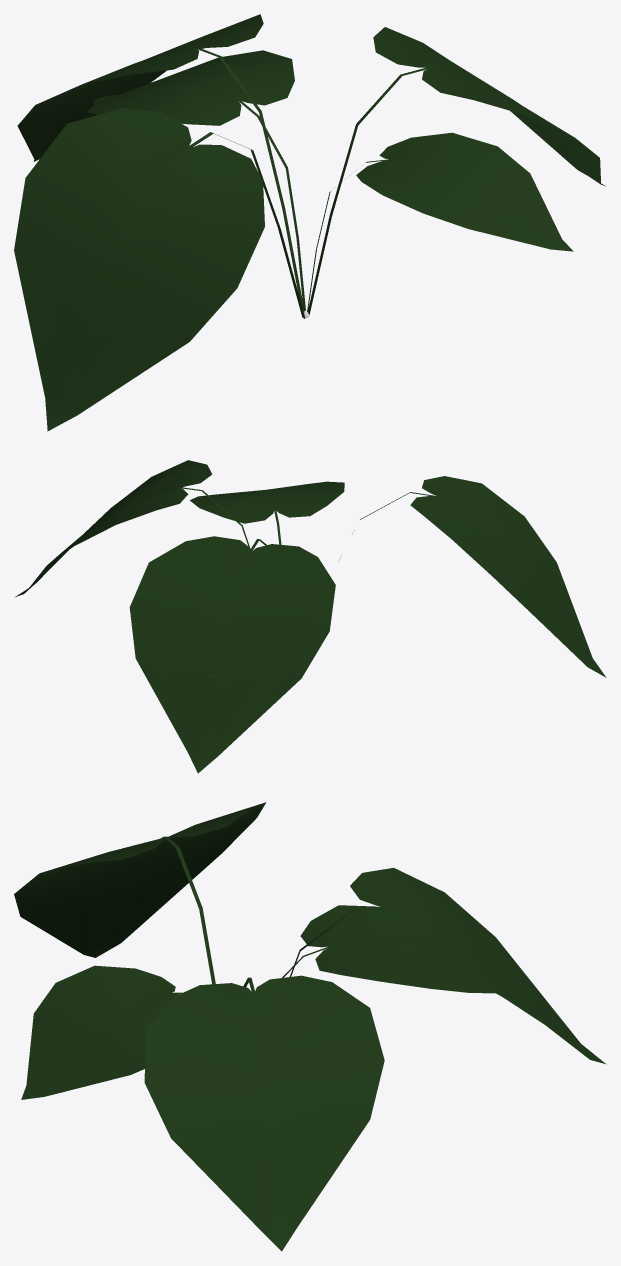
File: Alocasia Reginula.fbx
3 renders of one model, top to bottom at view 1: azimuth 30°, elevation 25°; view 2: azimuth 150°, elevation 25°; view 3: azimuth 270°, elevation 25°, orthographic. The views are drawn at different scales.
Visible parts, largest first — view 1: Alocasia Reginula|Alocasia Reginula Leaf|Dupli|2, Alocasia Reginula|Alocasia Reginula Leaf|Dupli|1, Alocasia Reginula|Alocasia Reginula Leaf|Dupli|3, Alocasia Reginula|Alocasia Reginula Leaf|Dupli|4, Alocasia Reginula|Alocasia Reginula Leaf|Dupli|; view 2: Alocasia Reginula|Alocasia Reginula Leaf|Dupli|4, Alocasia Reginula|Alocasia Reginula Leaf|Dupli|2, Alocasia Reginula|Alocasia Reginula Leaf|Dupli|1, Alocasia Reginula|Alocasia Reginula Leaf|Dupli|; view 3: Alocasia Reginula|Alocasia Reginula Leaf|Dupli|, Alocasia Reginula|Alocasia Reginula Leaf|Dupli|2, Alocasia Reginula|Alocasia Reginula Leaf|Dupli|1, Alocasia Reginula|Alocasia Reginula Leaf|Dupli|4, Alocasia Reginula|Alocasia Reginula Leaf|Dupli|3.
Part boxes in pixels (x1,y1,x2,y2): Alocasia Reginula|Alocasia Reginula Leaf|Dupli|2: (14, 108, 305, 431); Alocasia Reginula|Alocasia Reginula Leaf|Dupli|1: (307, 132, 573, 312); Alocasia Reginula|Alocasia Reginula Leaf|Dupli|3: (86, 50, 305, 311); Alocasia Reginula|Alocasia Reginula Leaf|Dupli|4: (17, 14, 303, 311); Alocasia Reginula|Alocasia Reginula Leaf|Dupli|: (308, 27, 605, 314); Alocasia Reginula|Alocasia Reginula Leaf|Dupli|4: (129, 536, 335, 773); Alocasia Reginula|Alocasia Reginula Leaf|Dupli|2: (338, 476, 606, 677); Alocasia Reginula|Alocasia Reginula Leaf|Dupli|1: (189, 481, 344, 544); Alocasia Reginula|Alocasia Reginula Leaf|Dupli|: (15, 460, 250, 596); Alocasia Reginula|Alocasia Reginula Leaf|Dupli|: (144, 975, 384, 1251); Alocasia Reginula|Alocasia Reginula Leaf|Dupli|2: (14, 802, 266, 984); Alocasia Reginula|Alocasia Reginula Leaf|Dupli|1: (21, 965, 182, 1099); Alocasia Reginula|Alocasia Reginula Leaf|Dupli|4: (289, 867, 606, 1064); Alocasia Reginula|Alocasia Reginula Leaf|Dupli|3: (282, 905, 531, 993).
Bounding box in the file's own units: 1237 × 449 × 1010.
